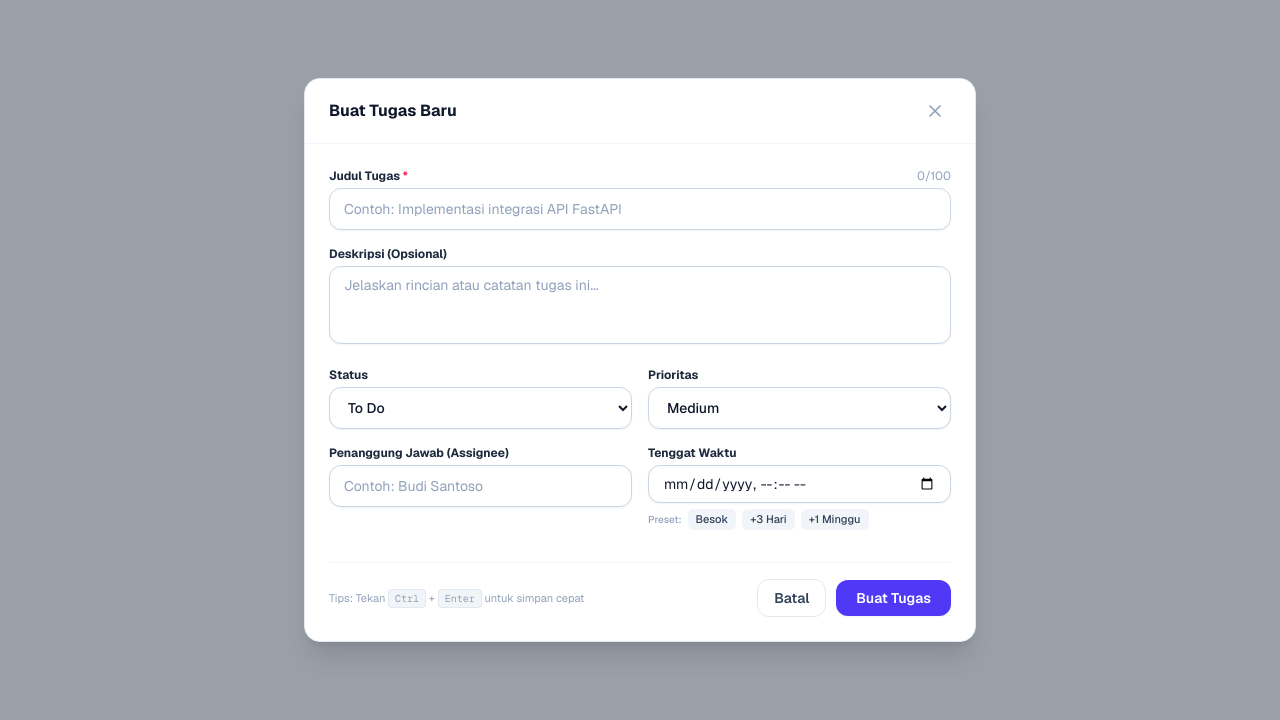
TaskFormModal Component › menampilkan error validasi jika judul kosong saat disubmit
Step 1. Click the button "Buat Tugas" → (894, 598), box [836,580,951,616]
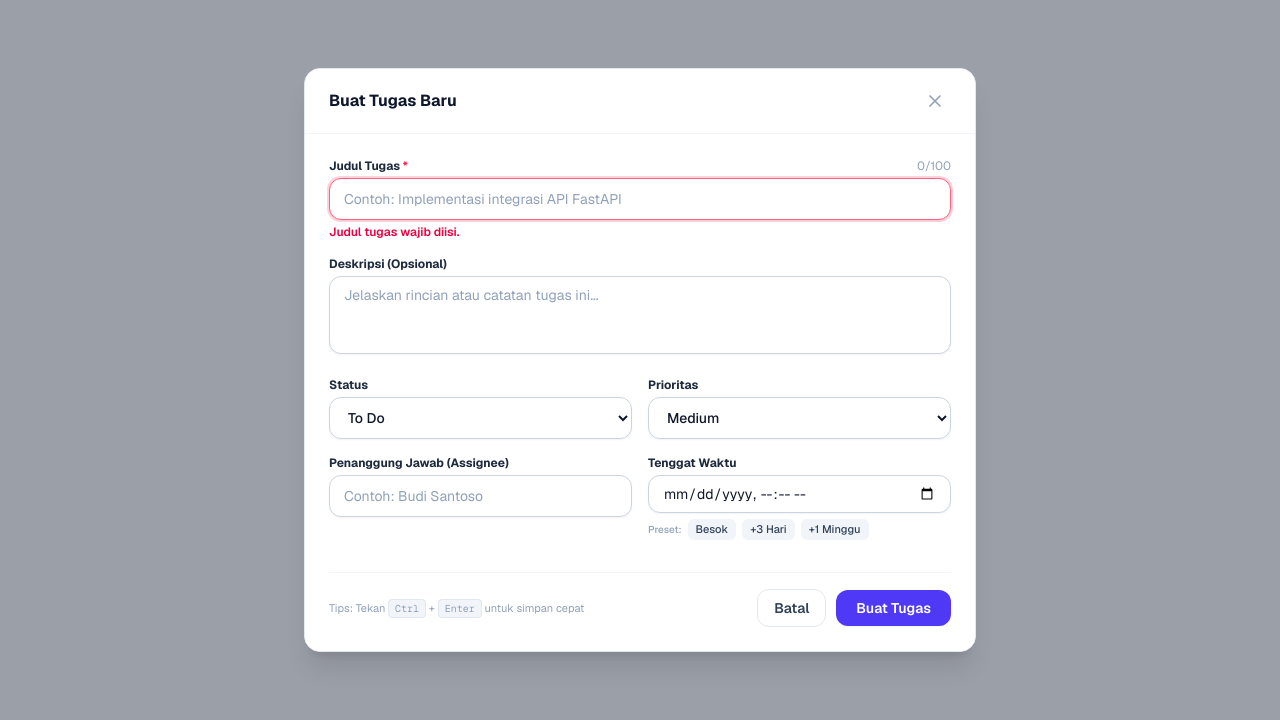
Expected: the text "Judul tugas wajib diisi." is shown, [329,224,460,240]
